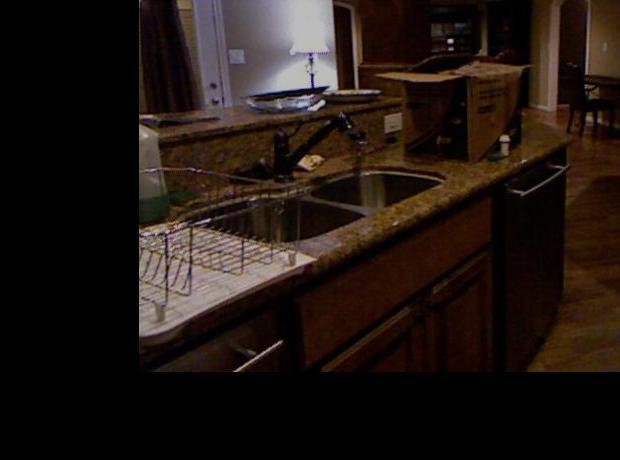Lavaplatos: (191, 108, 445, 267)
